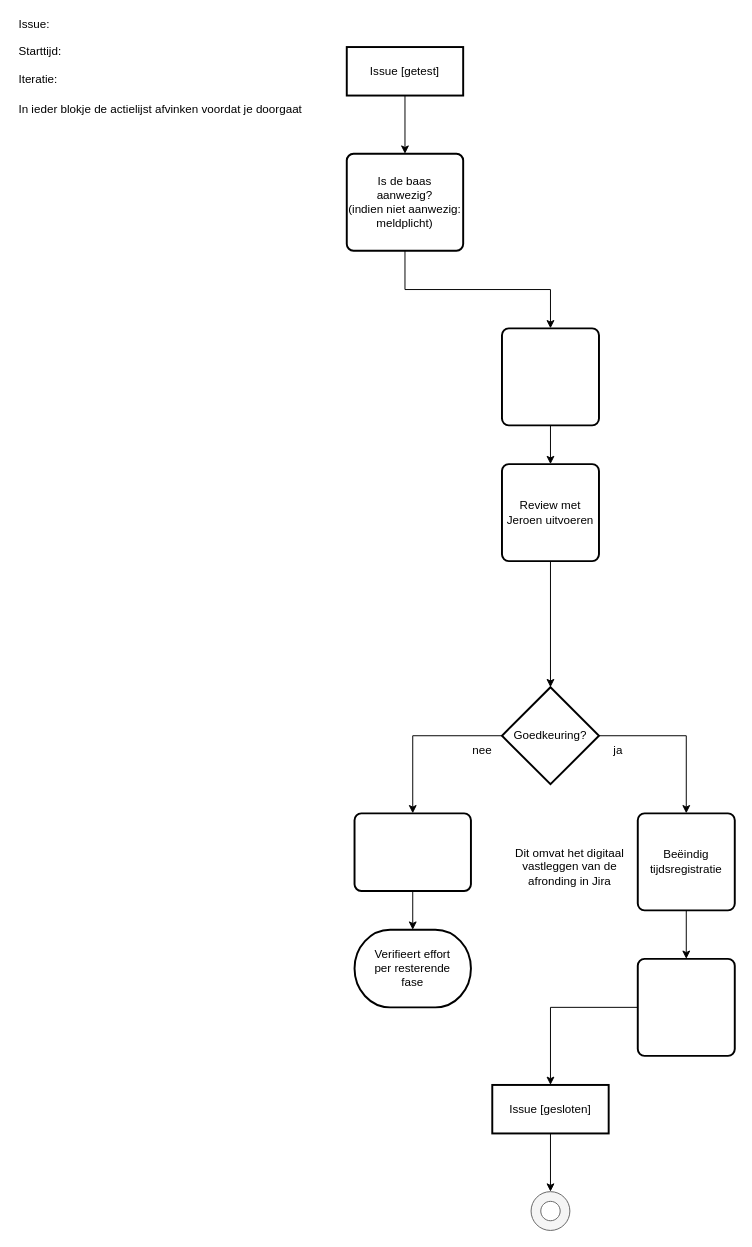
The diagram is 752 pixels wide and 1247 high, and some of its shapes have lost their labels. The centre of each missing label's shape, as x and y in pixels:
"De baas bepaalt volgende status" goes at point 412,851.
"Demonstratie van de oplossing geven" goes at point 550,376.
"Zet Jira uitvoerder op de baas" goes at point 685,1006.
